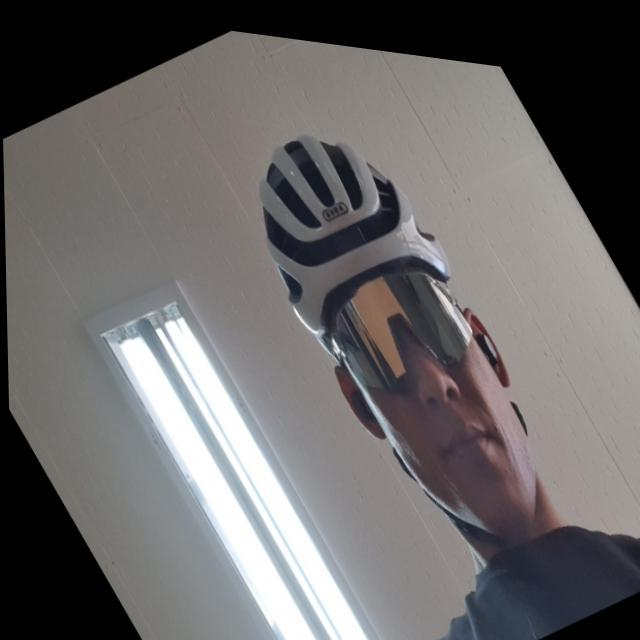Helmet: (253, 129, 549, 537)
